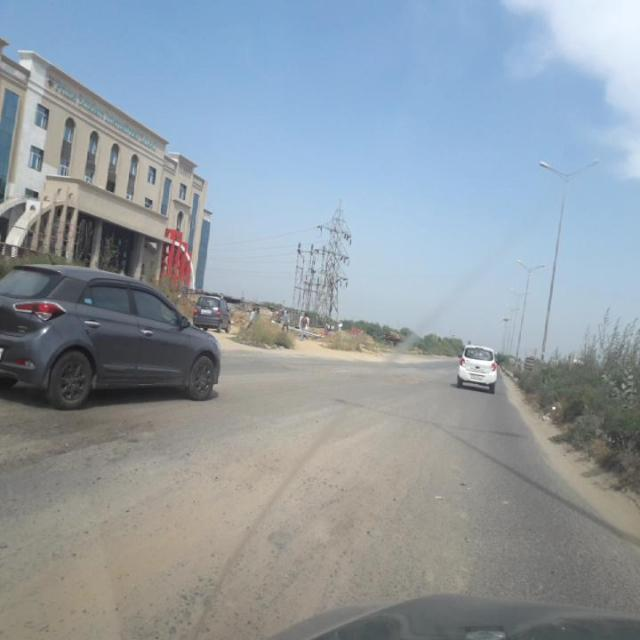D40: (6, 404, 172, 474)
